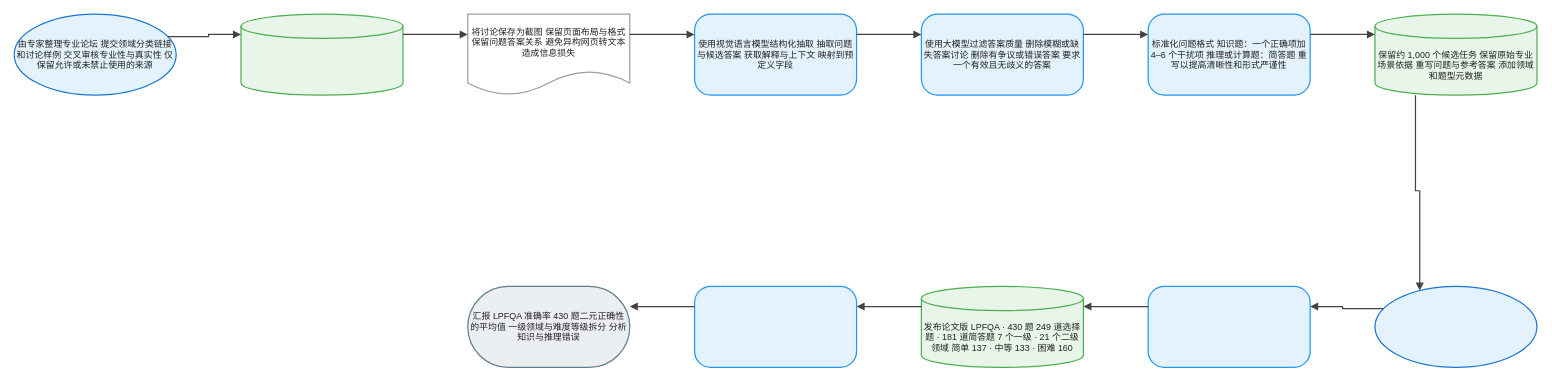
The diagram is 1552 pixels wide and 382 high, and some of its shapes have lost their labels. Each missing label, with the centre of its shape:
使用先导模型校准难度 每题交给 6–8 个前沿大模型 根据模型通过率划分等级 删除过于简单的任务: (1228,326)
执行专家人工验证 项目专家组共 209 人 检查长尾价值清晰度与正确性 丢弃任何不合格任务: (1455,326)
抓取 50 多个已审核论坛 七个月内 2,000 多个讨论串 要求帖子发布于 2025 年 1 月后 覆盖真实专业长尾问题: (321,54)
评判每个模型答案 提供问题专家参考答案与模型输出 验证最终答案语义等价性 输出二元语义等价判断: (775,326)
